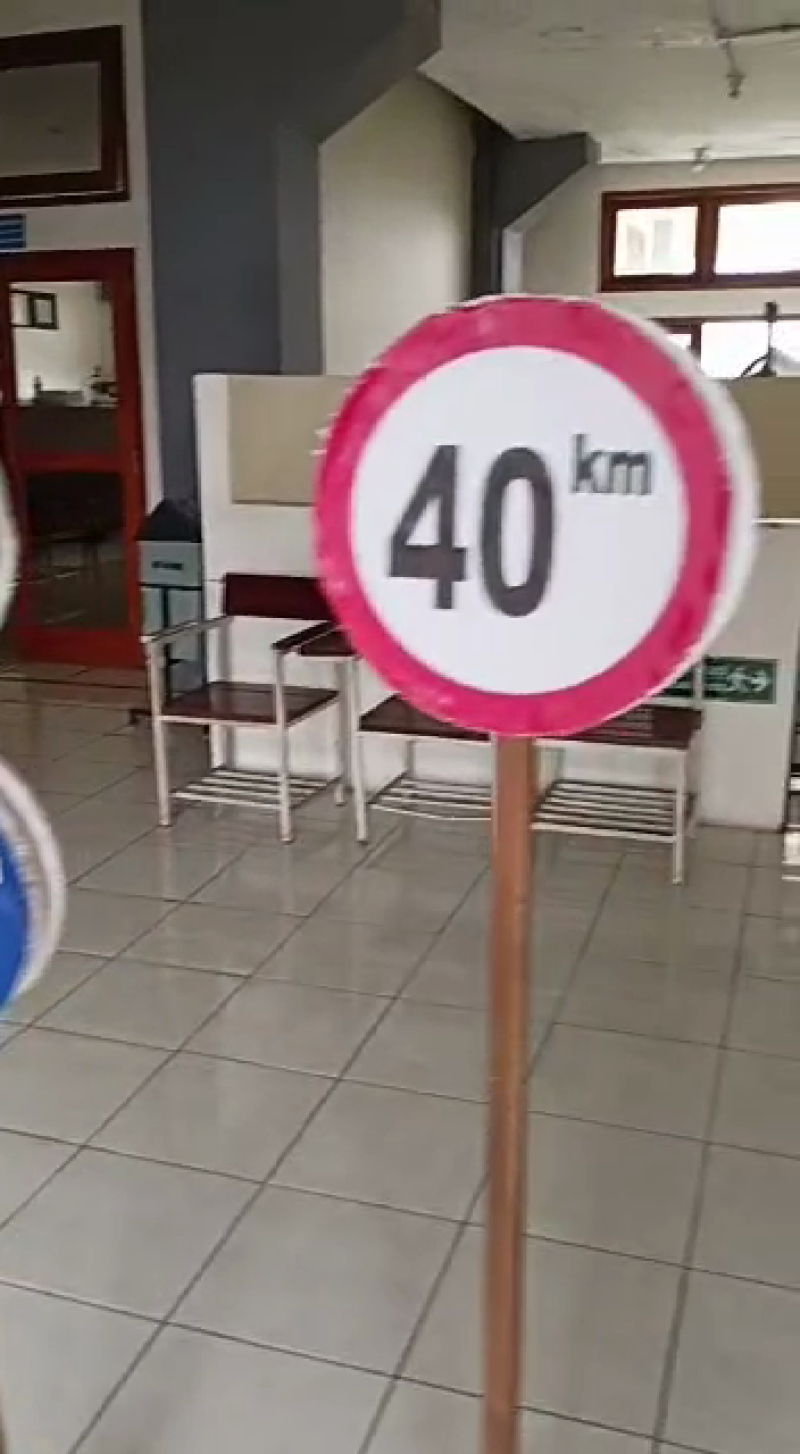batas maksimal 40kmperjam: (298, 276, 768, 747)
